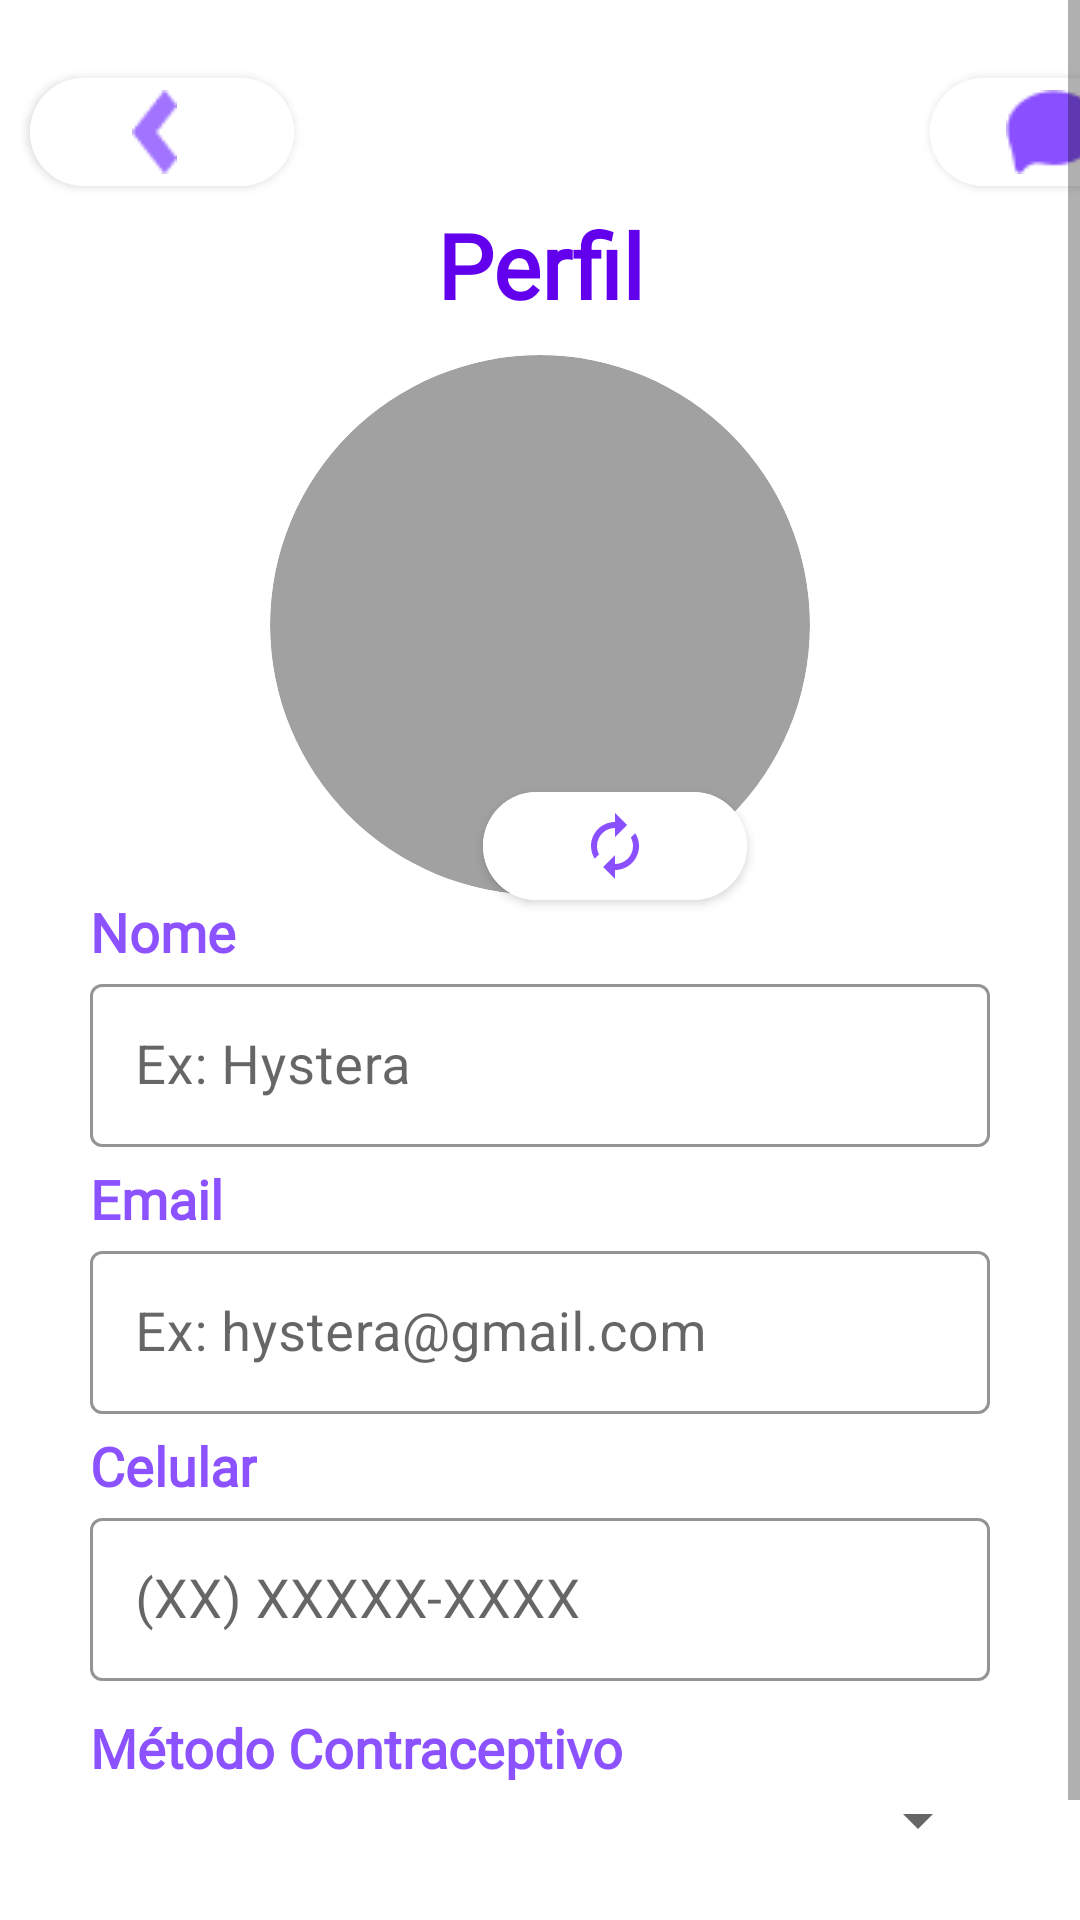

Icons on this 1080 x 1920 Android screen, each with the point to tap as (x=x, y=y):
Voltar: (x=103, y=133)
